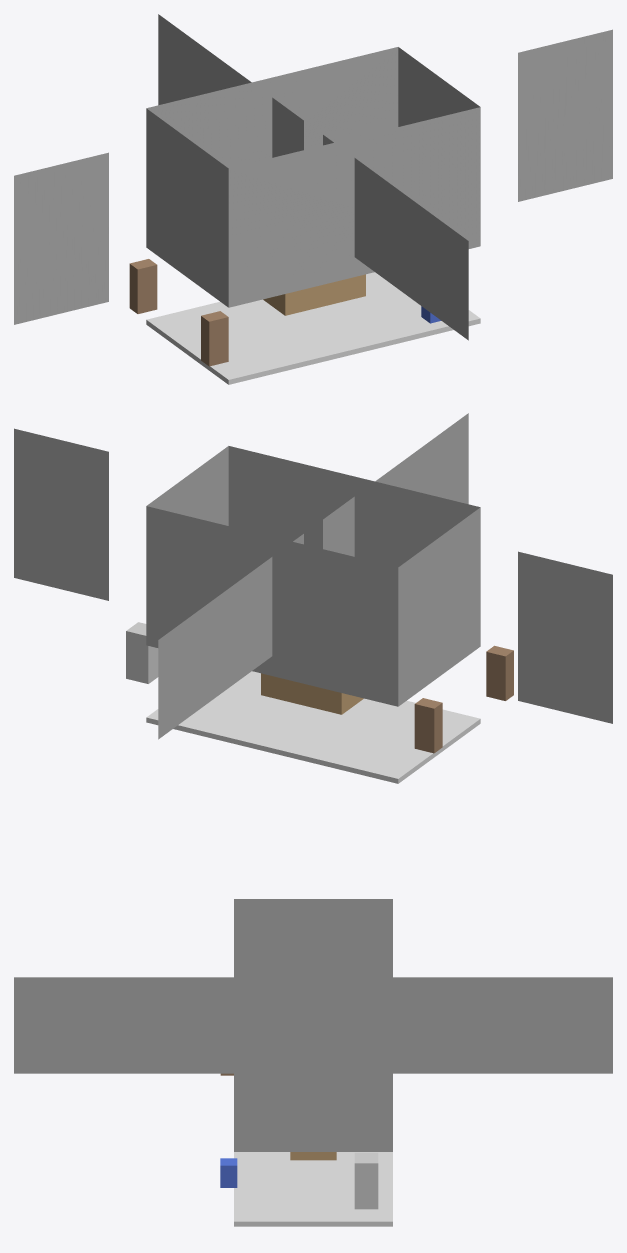
The model's file is room.fbx.
3 views of the same model, one above another, from view 1: azimuth 30°, elevation 25°; view 2: azimuth 150°, elevation 25°; view 3: azimuth 270°, elevation 25° (orthographic). The views are drawn at different scales.
Parts seen in each view (by area): view 1: Room, Floor, Wall1, Wall2, Wall4, Wall3, Table, Brown_Box1, Brown_Box2; view 2: Room, Floor, Wall1, Wall2, Wall3, Wall4, Table, Gray_Box, Brown_Box1, Brown_Box2; view 3: Room, Wall3, Wall4, Floor, Gray_Box.
Boxes of the visible parts, bbox=[...] form: Room: bbox=[146, 47, 480, 307]; Floor: bbox=[146, 272, 480, 384]; Wall1: bbox=[518, 29, 612, 201]; Wall2: bbox=[14, 152, 108, 324]; Wall4: bbox=[323, 135, 468, 340]; Wall3: bbox=[158, 14, 303, 157]; Table: bbox=[263, 274, 365, 315]; Brown_Box1: bbox=[129, 259, 157, 313]; Brown_Box2: bbox=[201, 311, 228, 366]; Room: bbox=[146, 446, 480, 706]; Floor: bbox=[146, 671, 480, 783]; Wall1: bbox=[14, 428, 108, 600]; Wall2: bbox=[518, 551, 612, 723]; Wall3: bbox=[158, 534, 303, 739]; Wall4: bbox=[323, 413, 468, 556]; Table: bbox=[261, 673, 363, 714]; Gray_Box: bbox=[126, 622, 158, 683]; Brown_Box1: bbox=[414, 698, 442, 753]; Brown_Box2: bbox=[486, 645, 513, 700]; Room: bbox=[234, 899, 392, 1151]; Wall3: bbox=[332, 977, 612, 1073]; Wall4: bbox=[14, 977, 294, 1073]; Floor: bbox=[234, 1152, 392, 1226]; Gray_Box: bbox=[354, 1152, 378, 1209].
Size of the model in its own units: 630 by 223 by 565.
